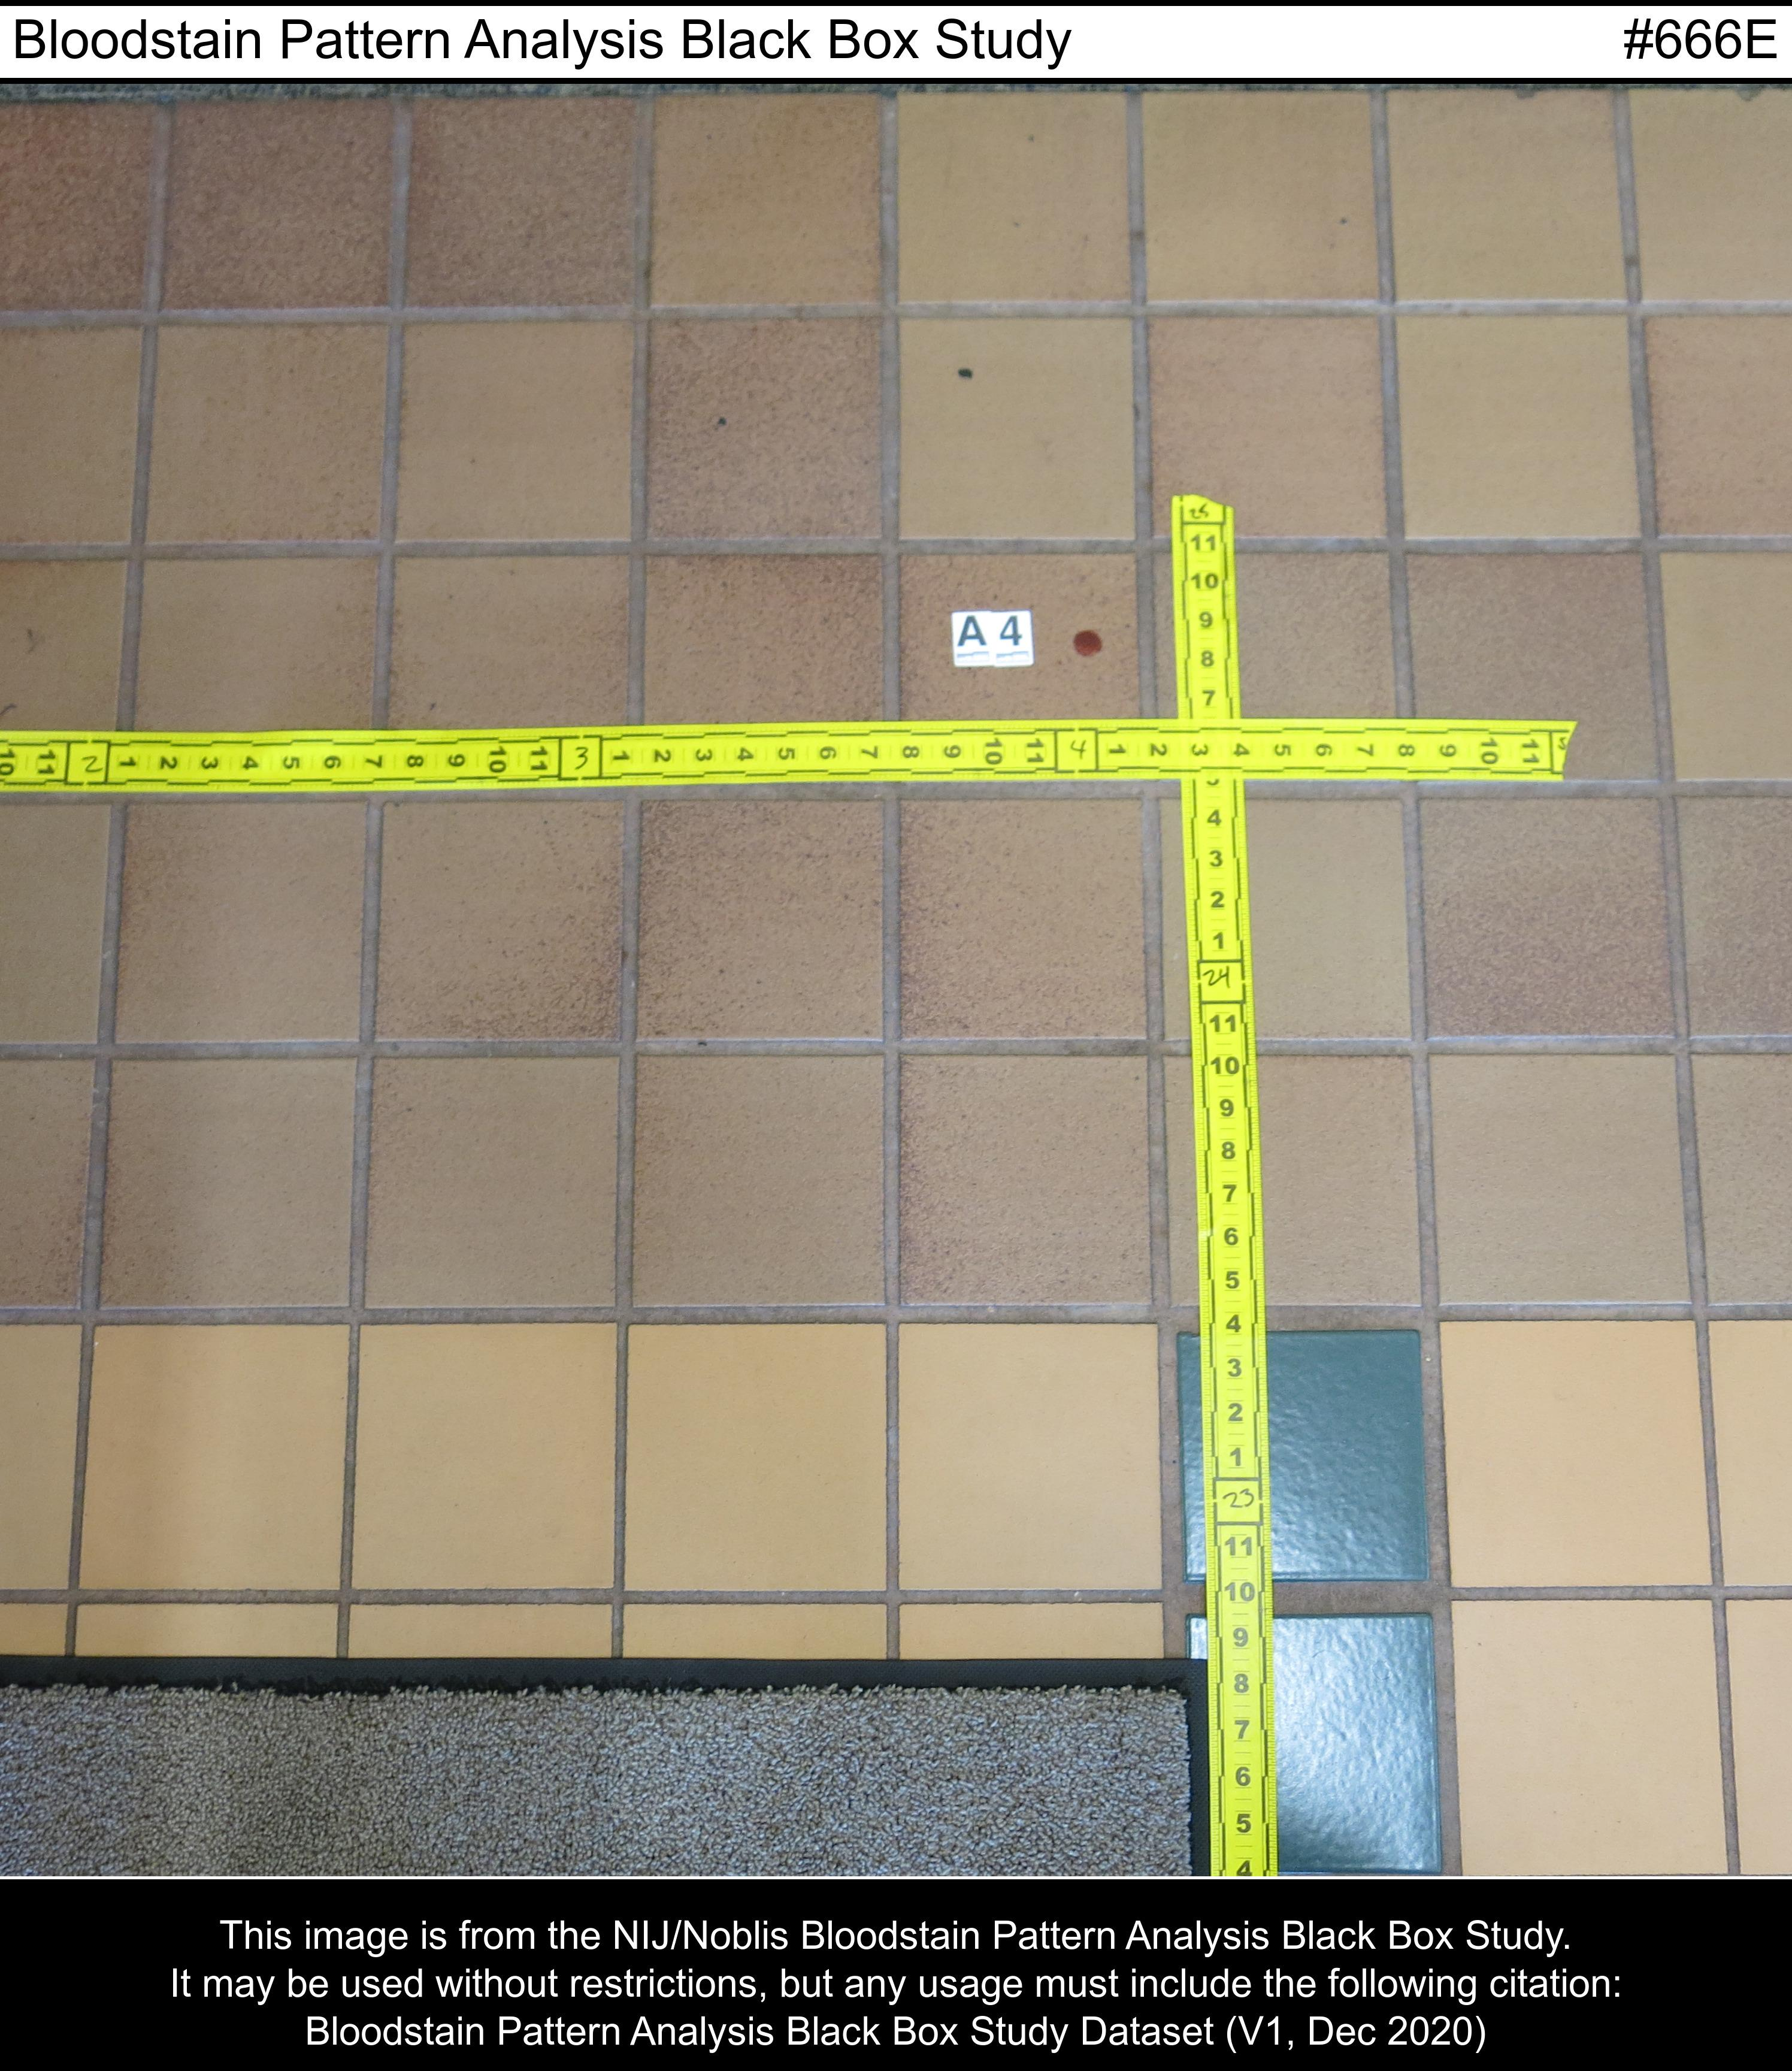Impact: (1049, 588, 1142, 687)
